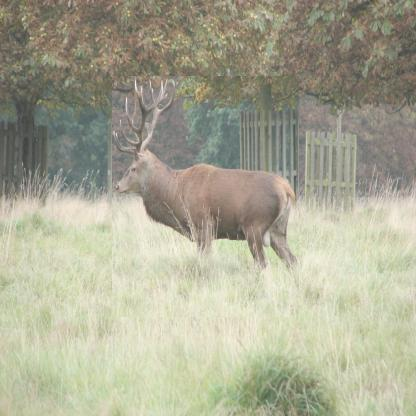Deer: (112, 76, 299, 317)
